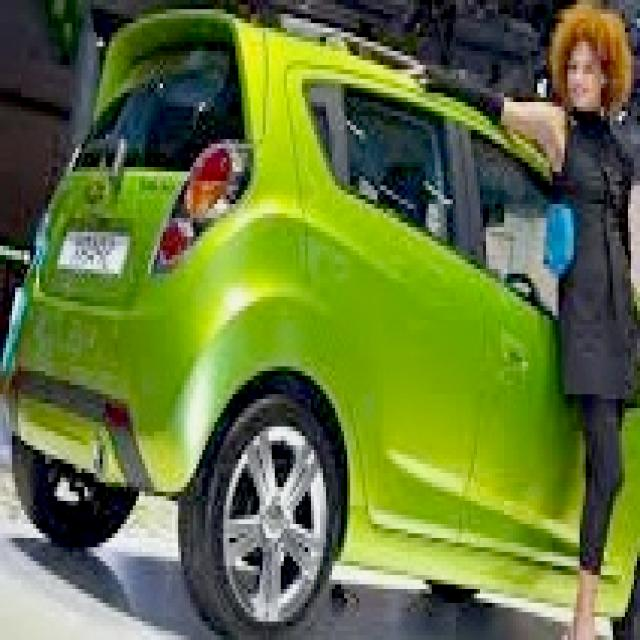green: (0, 54, 516, 593)
